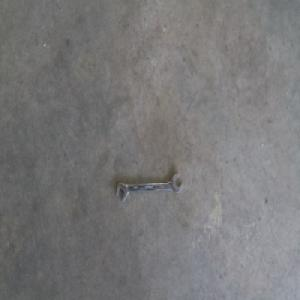Wrench: (115, 171, 182, 198)
